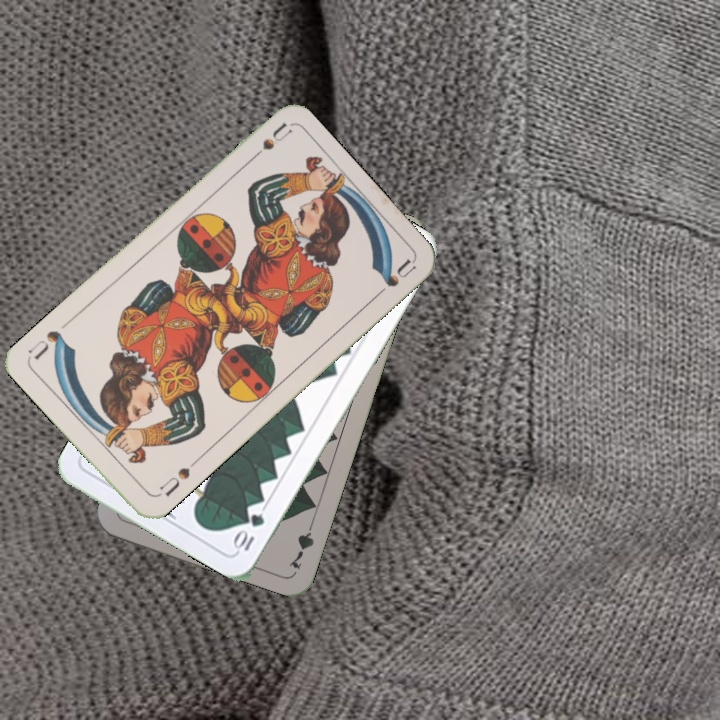G10: (230, 509, 268, 554)
G7: (285, 515, 317, 572)
SU: (242, 119, 294, 167), (153, 455, 200, 500)
